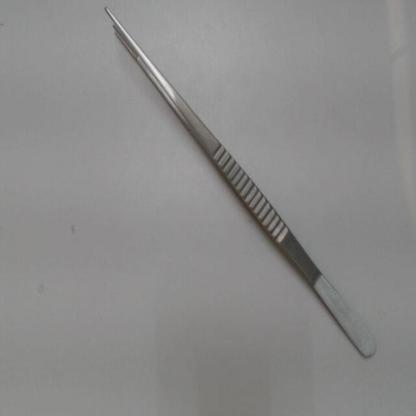DeBakey Dissector: (84, 6, 398, 389)
